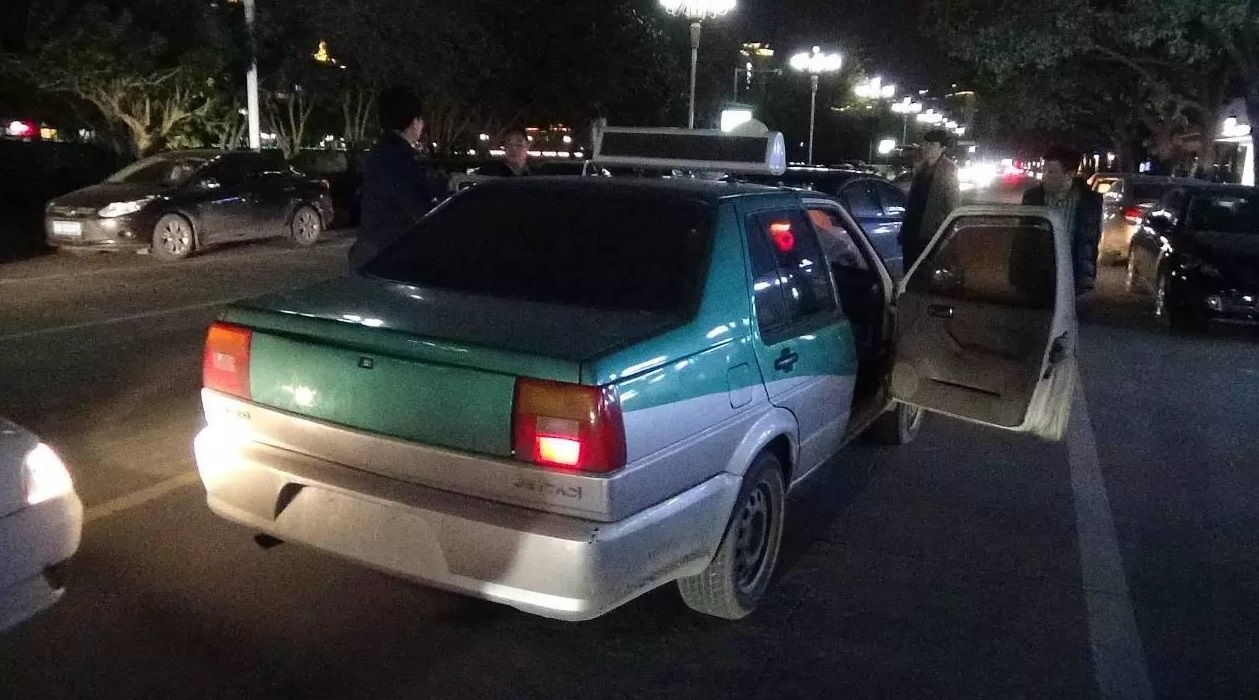taxi: (186, 125, 1080, 628)
